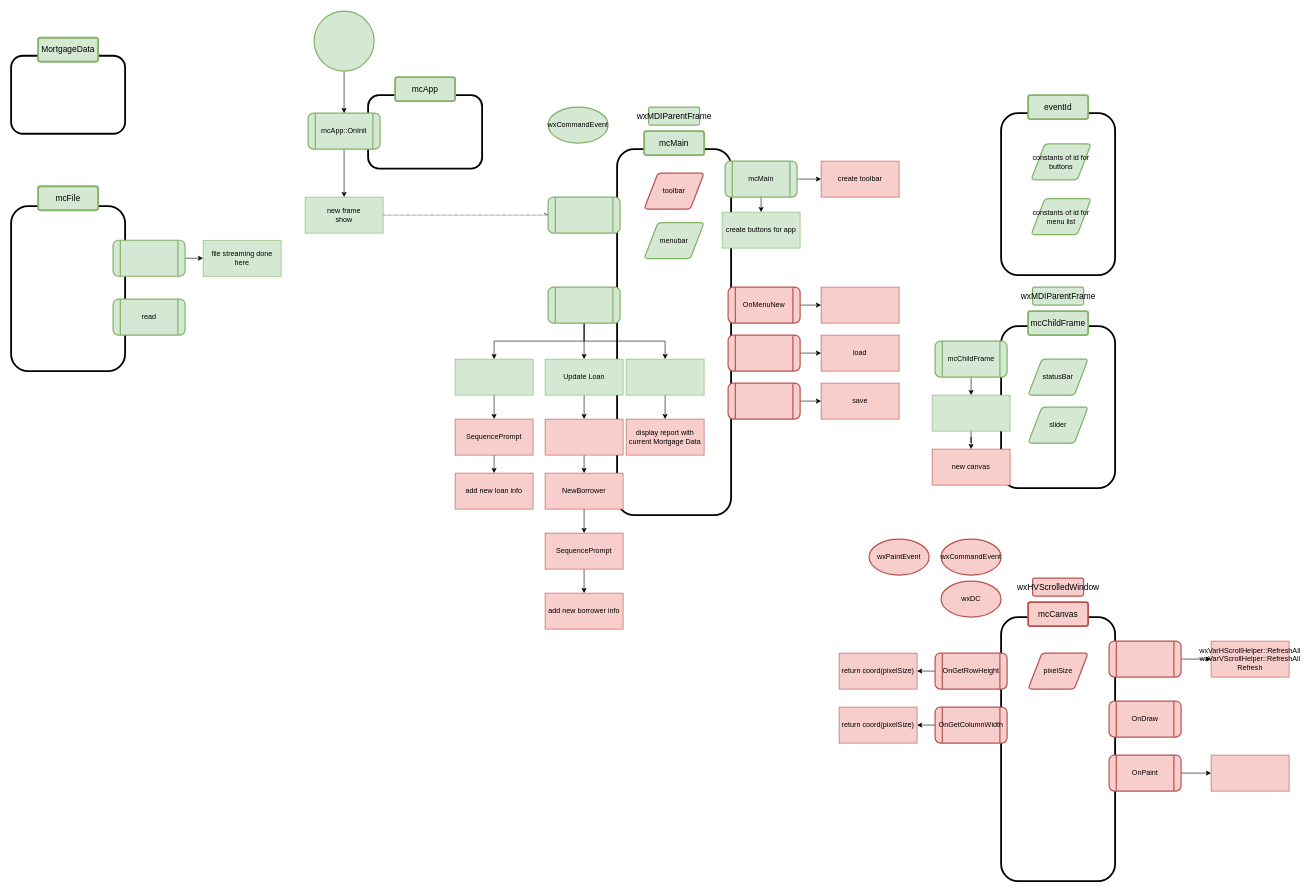
This 1310x892 diagram has some shape labels left out. The box of each missing label's shape, as (x1, y1, x2, y2) in pixels:
init members: (932, 394, 1010, 431)
List SubMenus to edit Fields: (544, 418, 623, 455)
New Loan: (454, 358, 533, 395)
new mortgage loan layout: (820, 286, 899, 323)
OnButtonClicked: (547, 286, 620, 323)
OnMenuOpen: (727, 334, 800, 371)
OnMenuSave: (727, 382, 800, 419)
Print Report: (626, 358, 704, 395)
save/load: (112, 239, 185, 277)
set wxBufferedPaintDC: (1210, 754, 1289, 791)
SetPixelSize: (1108, 640, 1181, 677)
Show: (547, 196, 620, 233)
Start: (313, 10, 374, 71)
